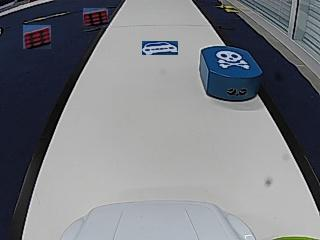danger: (216, 49, 248, 69)
